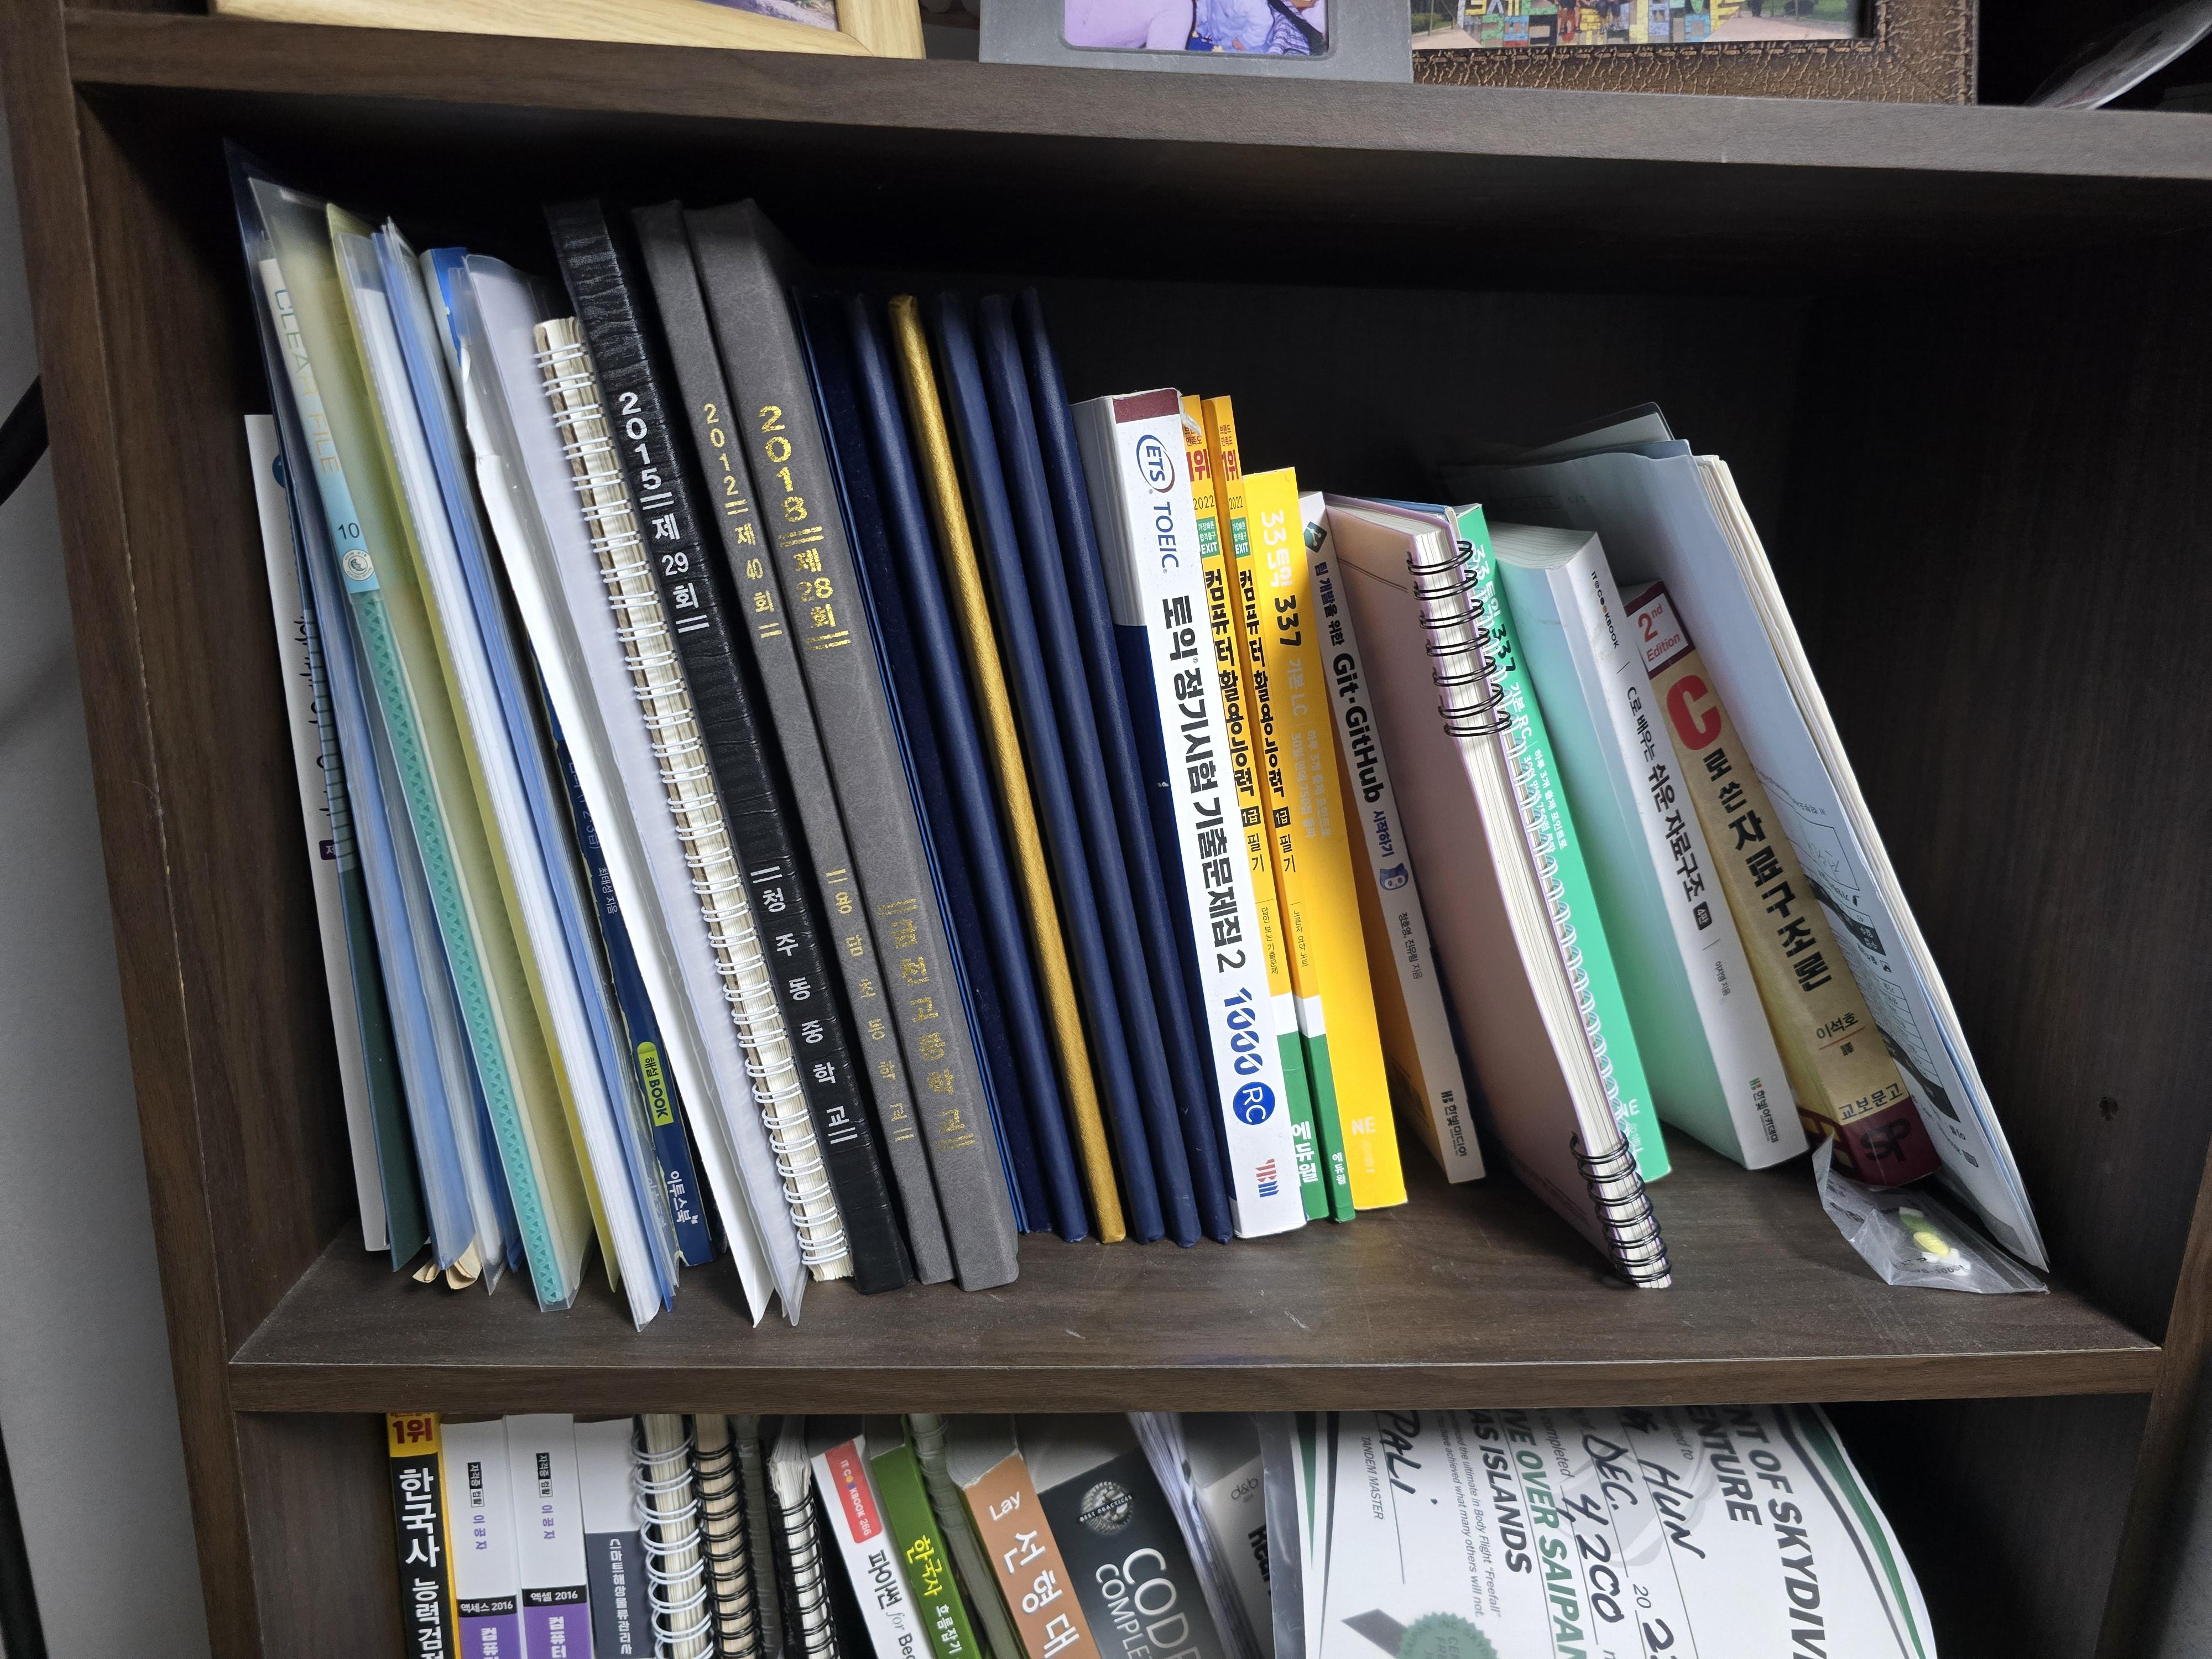book: (226, 174, 2057, 1330), (378, 1422, 1952, 1659)
